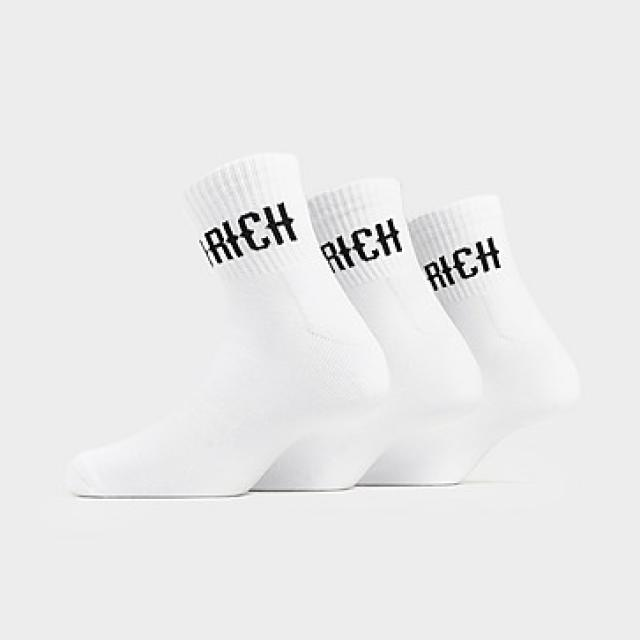sock: (67, 150, 391, 497)
